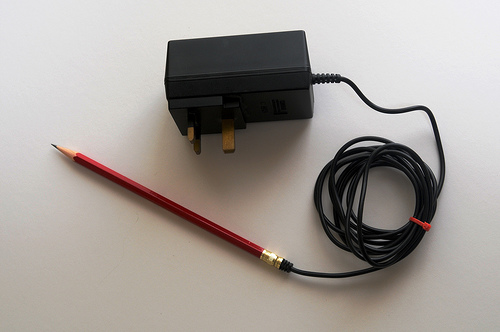pen_tip: (48, 138, 83, 167)
